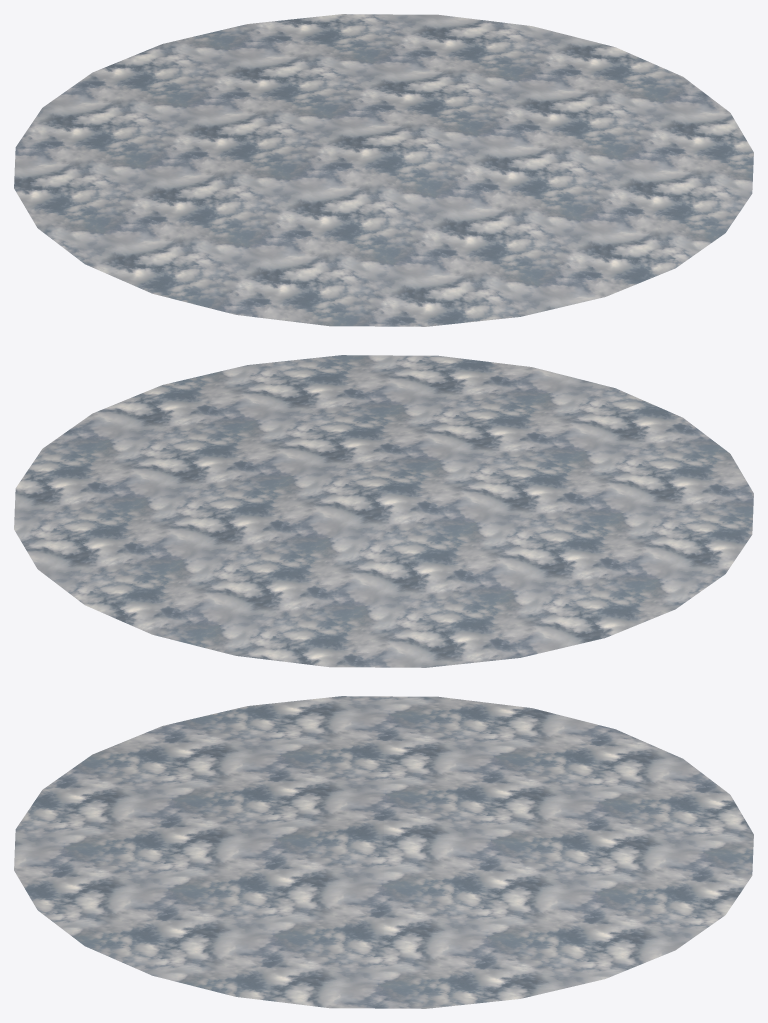
File: clouds1.dae
3 views of the same model, one above another, from view 1: azimuth 30°, elevation 25°; view 2: azimuth 150°, elevation 25°; view 3: azimuth 270°, elevation 25° (orthographic).
Parts seen in each view (by area): view 1: SketchUp; view 2: SketchUp; view 3: SketchUp.
Part boxes in pixels (<box>): SketchUp: <box>14,14,753,326</box>; SketchUp: <box>14,355,753,667</box>; SketchUp: <box>14,696,753,1008</box>.
Bounding box in the file's own units: 156 × 156 × 4.05.
1 material, 1 textured.
